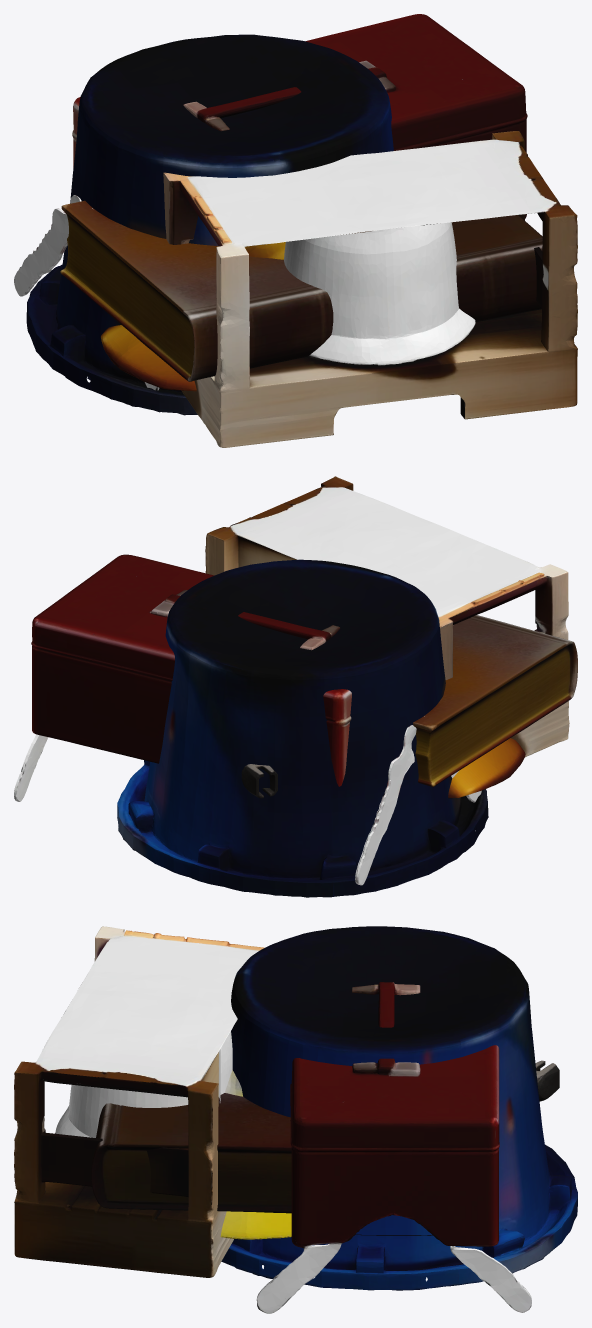
The model's file is scenegen.glb.
3 renders of one model, top to bottom at view 1: azimuth 30°, elevation 25°; view 2: azimuth 150°, elevation 25°; view 3: azimuth 270°, elevation 25°, orthographic. The views are drawn at different scales.
Parts seen in each view (by area): view 1: geometry_1, geometry_4, geometry_5, geometry_0, geometry_2; view 2: geometry_4, geometry_0, geometry_1, geometry_5, geometry_2, geometry_3; view 3: geometry_4, geometry_1, geometry_0, geometry_5, geometry_2, geometry_3.
Part boxes in pixels (left/top/right/bottom): geometry_1: left=163, top=131, right=577, bottom=447; geometry_4: left=26, top=34, right=393, bottom=415; geometry_5: left=60, top=200, right=542, bottom=381; geometry_0: left=14, top=14, right=527, bottom=390; geometry_2: left=100, top=242, right=285, bottom=391; geometry_4: left=117, top=559, right=488, bottom=897; geometry_0: left=14, top=554, right=481, bottom=885; geometry_1: left=205, top=476, right=569, bottom=757; geometry_5: left=413, top=615, right=577, bottom=787; geometry_2: left=448, top=738, right=525, bottom=798; geometry_3: left=241, top=764, right=277, bottom=798; geometry_4: left=221, top=926, right=577, bottom=1290; geometry_1: left=14, top=926, right=264, bottom=1277; geometry_0: left=256, top=982, right=531, bottom=1313; geometry_5: left=91, top=1093, right=291, bottom=1213; geometry_2: left=220, top=1070, right=291, bottom=1239; geometry_3: left=535, top=1060, right=559, bottom=1101.
Bounding box in the file's own units: 1.66 × 0.8653 × 1.96.
6 materials, 6 textured.
